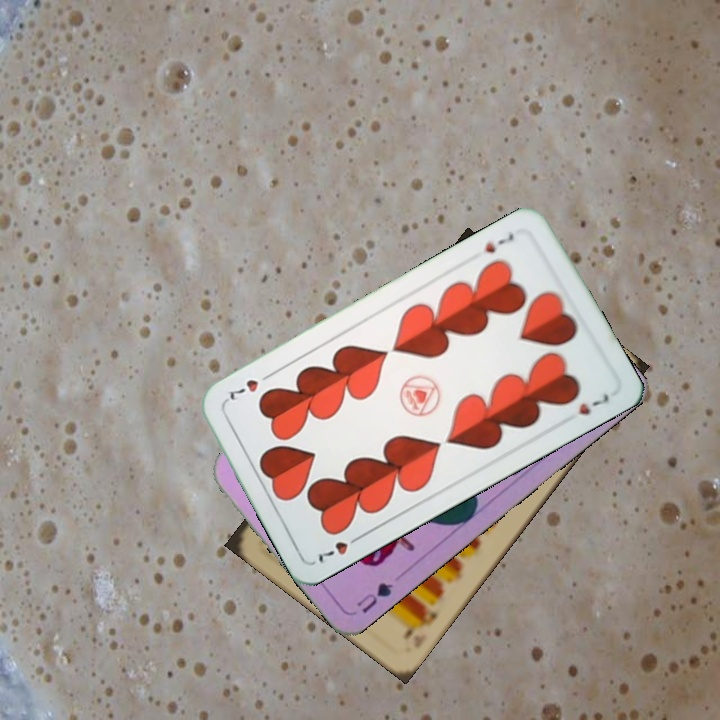E10: (399, 602, 440, 642)
GU: (352, 578, 396, 616)
H7: (314, 530, 366, 567), (479, 229, 516, 256)
